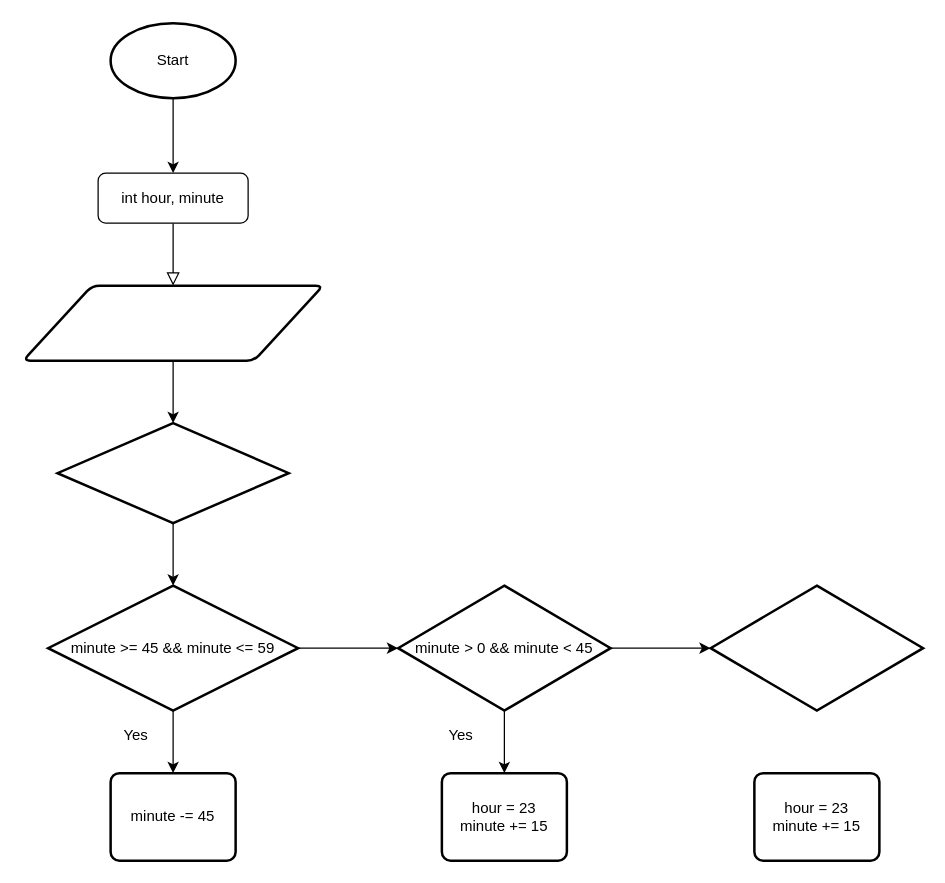
Some shapes in this 945 by 883 pixel diagram are drawn without their labels. Each missing label, with the box of its shape:
(input) hour, minute: (21, 284, 324, 361)
hour == 0: (56, 421, 289, 524)
minute == 0: (709, 584, 924, 711)
